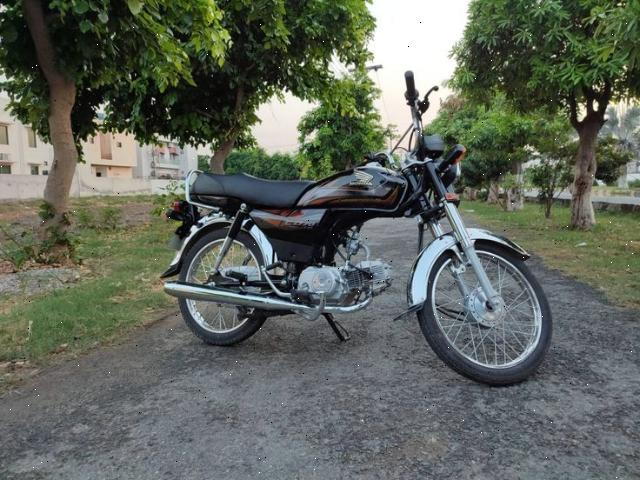Bike: (137, 86, 577, 385)
